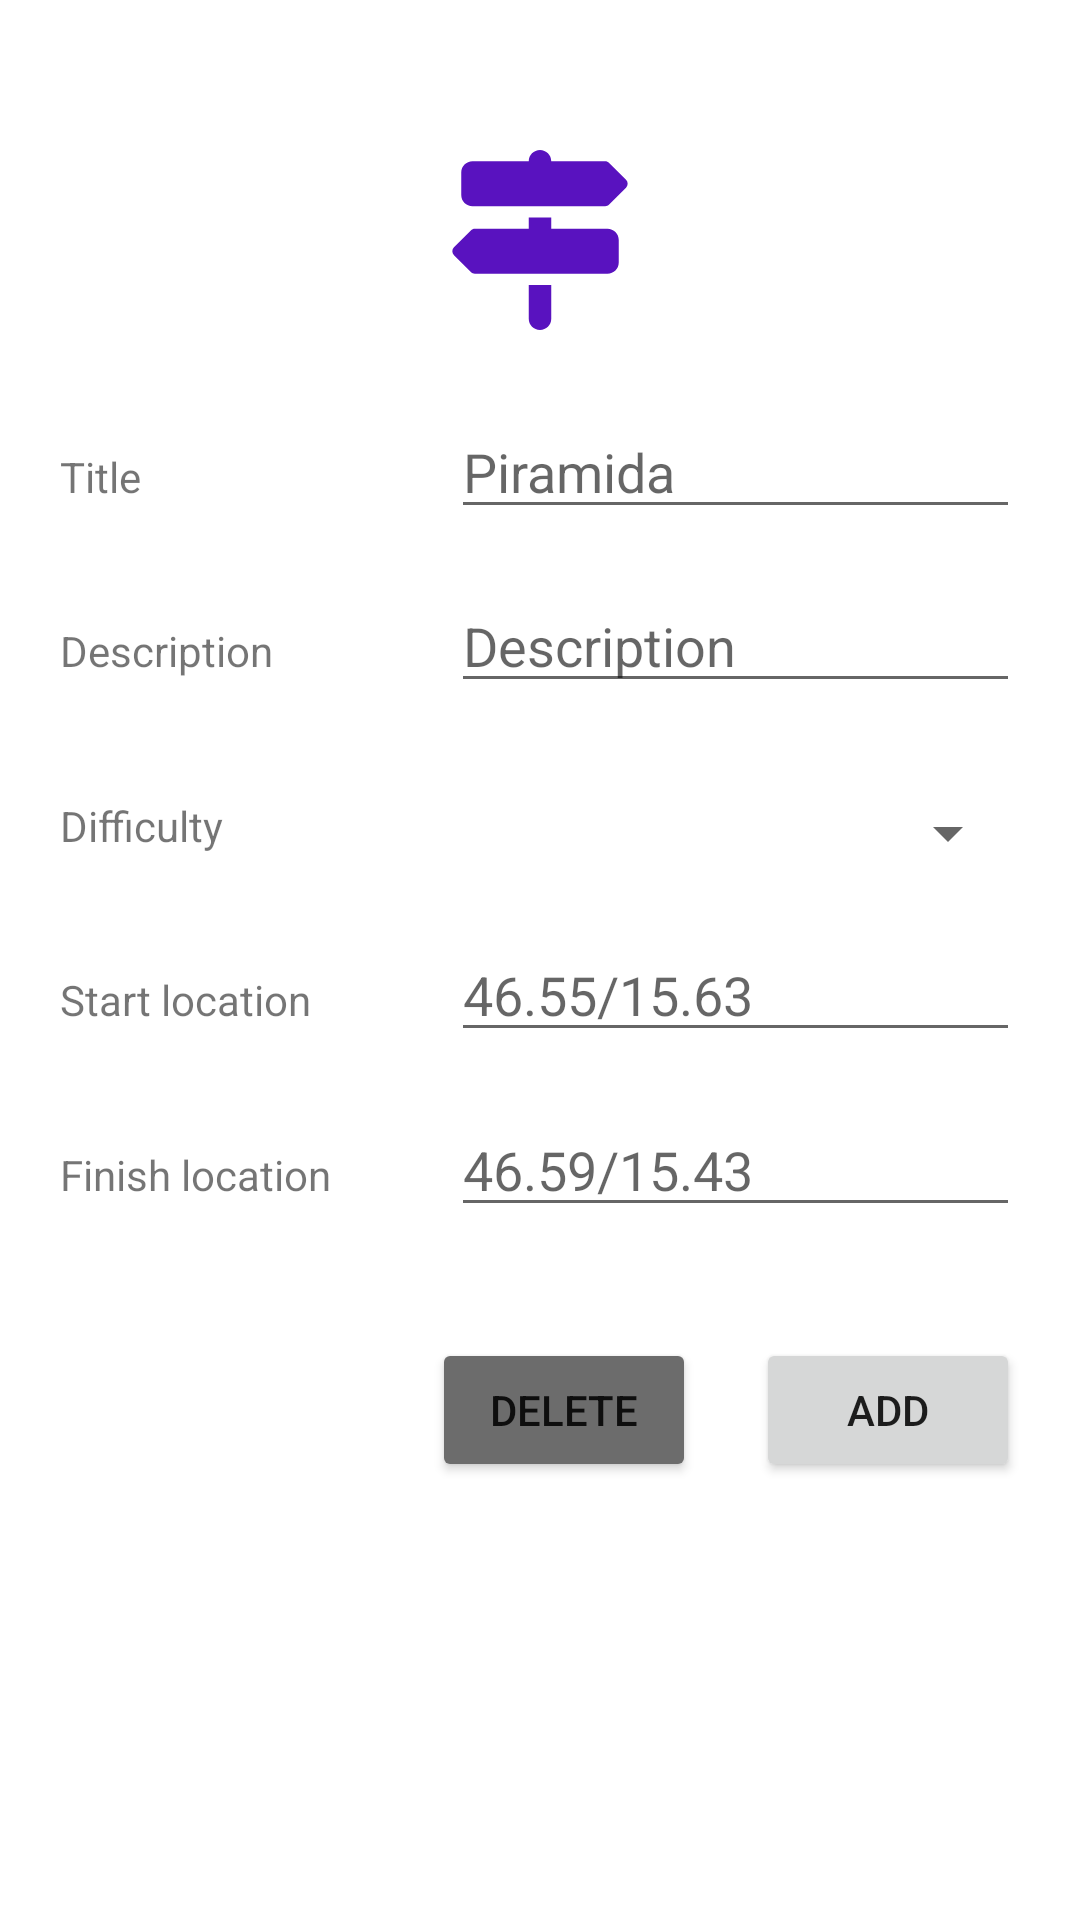

Named icons in this screenshot (1080w x 1920h) and their bounding boxes, (x1, y1, x2, y2):
sign post: (452, 150, 628, 330)
